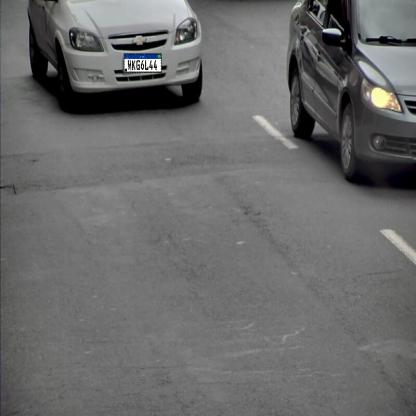PlacaM: (124, 53, 162, 73)
